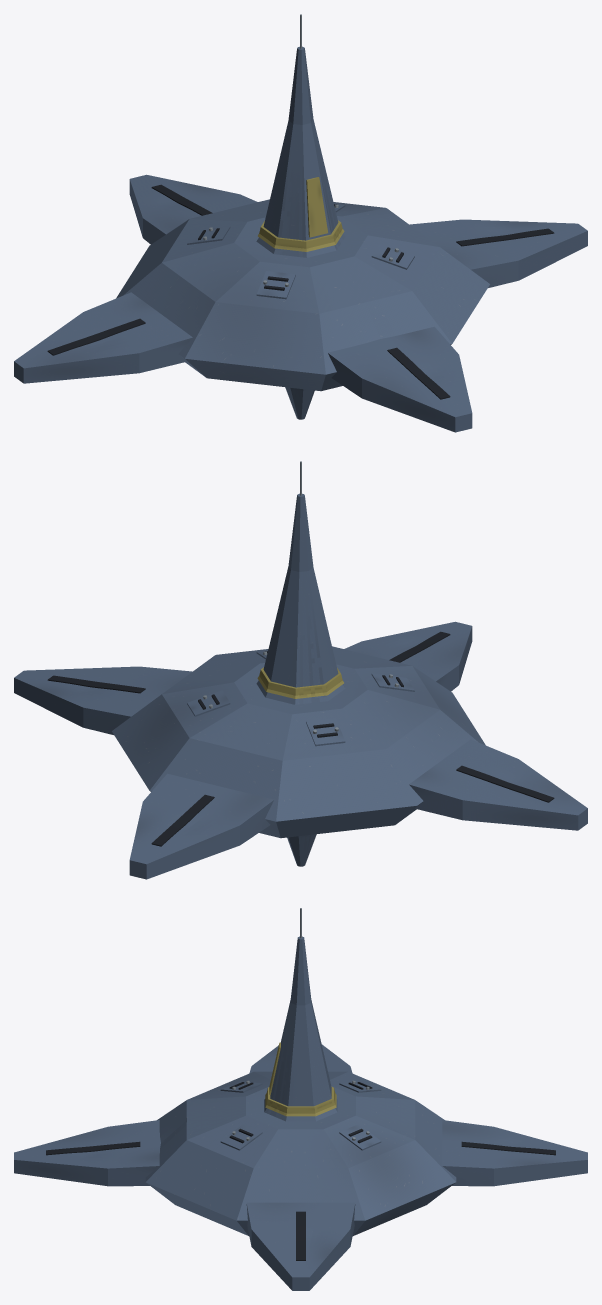
3 views of the same model, one above another, from view 1: azimuth 30°, elevation 25°; view 2: azimuth 150°, elevation 25°; view 3: azimuth 270°, elevation 25° (orthographic). The views are drawn at different scales.
Visible parts, largest first — view 1: Hiero faceted hull, Hiero radial fin 2, Hiero radial fin 3, Hiero upper spike, Hiero radial fin 0, Hiero radial fin 1, Hiero octagonal gold collar, Hiero gold spike stripe, Hiero fin inset 2, Hiero roof service cover 2, Hiero fin inset 3, Hiero fin inset 0 (+2 smaller); view 2: Hiero faceted hull, Hiero radial fin 2, Hiero radial fin 1, Hiero upper spike, Hiero radial fin 0, Hiero radial fin 3, Hiero octagonal gold collar, Hiero fin inset 2, Hiero fin inset 1, Hiero roof service cover 1, Hiero fin inset 0, Hiero lower keel (+1 smaller); view 3: Hiero faceted hull, Hiero radial fin 0, Hiero radial fin 1, Hiero radial fin 3, Hiero upper spike, Hiero octagonal gold collar, Hiero radial fin 2, Hiero fin inset 3, Hiero fin inset 1, Hiero roof service cover 0, Hiero roof service cover 3, Hiero fin inset 0.
Boxes of the visible parts, x1,y1,x2,y2 form: Hiero faceted hull: (116, 199, 489, 391); Hiero radial fin 2: (14, 292, 192, 383); Hiero radial fin 3: (328, 326, 472, 432); Hiero upper spike: (256, 46, 345, 257); Hiero radial fin 0: (409, 219, 587, 287); Hiero radial fin 1: (129, 174, 257, 244); Hiero octagonal gold collar: (258, 220, 344, 251); Hiero gold spike stripe: (306, 177, 327, 237); Hiero fin inset 2: (47, 318, 145, 355); Hiero roof service cover 2: (256, 271, 295, 299); Hiero fin inset 3: (387, 347, 450, 399); Hiero fin inset 0: (456, 228, 554, 246); Hiero faceted hull: (112, 646, 485, 838); Hiero radial fin 2: (409, 739, 587, 830); Hiero radial fin 1: (129, 773, 273, 879); Hiero upper spike: (256, 493, 345, 704); Hiero radial fin 0: (14, 666, 192, 734); Hiero radial fin 3: (344, 621, 472, 691); Hiero octagonal gold collar: (257, 667, 343, 698); Hiero fin inset 2: (456, 765, 554, 802); Hiero fin inset 1: (151, 794, 214, 846); Hiero roof service cover 1: (306, 718, 345, 746); Hiero fin inset 0: (47, 675, 145, 693); Hiero lower keel: (287, 834, 316, 866); Hiero faceted hull: (145, 1071, 456, 1235); Hiero radial fin 0: (246, 1202, 355, 1290); Hiero radial fin 1: (442, 1120, 587, 1186); Hiero radial fin 3: (14, 1120, 160, 1186); Hiero upper spike: (264, 936, 337, 1121); Hiero octagonal gold collar: (265, 1086, 336, 1116); Hiero radial fin 2: (249, 1044, 352, 1073); Hiero fin inset 3: (46, 1141, 140, 1155); Hiero fin inset 1: (461, 1141, 555, 1155); Hiero roof service cover 0: (339, 1124, 381, 1150); Hiero roof service cover 3: (220, 1124, 262, 1150); Hiero fin inset 0: (296, 1211, 305, 1260).
Size of the model in its own units: 2.32 by 1.58 by 2.32.
Materials: 4 (2 with a texture image).
